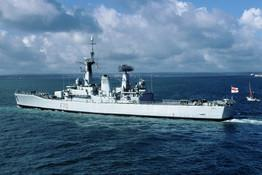warship: (12, 34, 235, 121)
